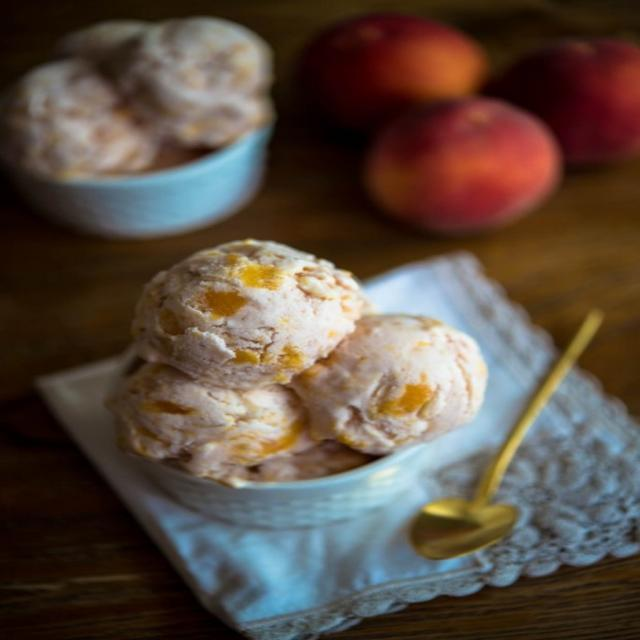Peach: (380, 98, 562, 231), (296, 13, 484, 133), (484, 38, 638, 164)
